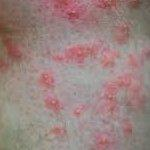Ants: (51, 41, 102, 70), (117, 69, 148, 111), (0, 35, 27, 64), (50, 0, 83, 22), (102, 81, 120, 120), (99, 46, 121, 73), (92, 0, 119, 21), (44, 122, 70, 140), (125, 47, 147, 66), (112, 22, 129, 44), (92, 131, 111, 149), (39, 71, 54, 87), (45, 95, 59, 111), (124, 126, 131, 140), (76, 105, 82, 116)
